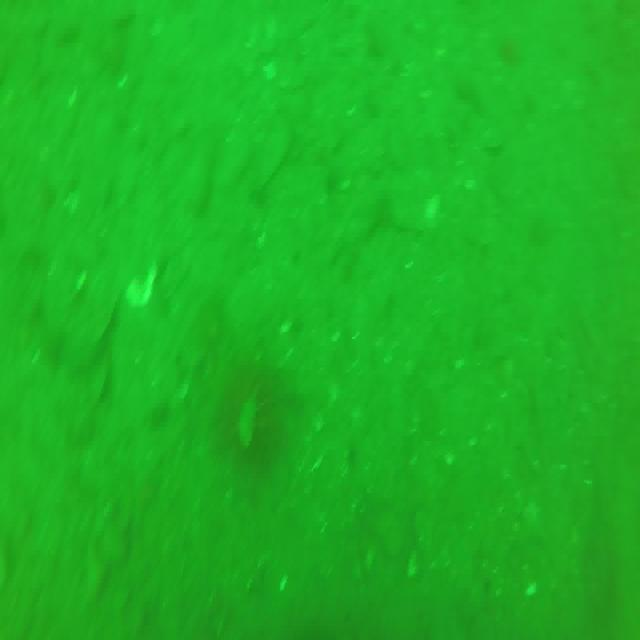echinus: (212, 348, 292, 472)
scallop: (127, 266, 161, 308)
